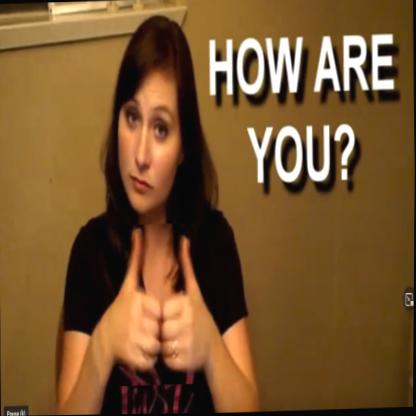HowAreYou: (97, 222, 215, 387)
